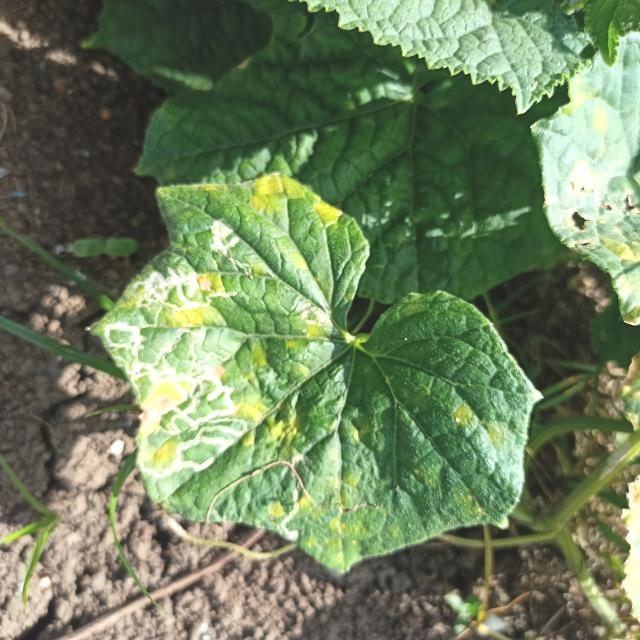disease_cucumber: (98, 274, 334, 477), (262, 422, 376, 554), (244, 170, 354, 272), (451, 398, 512, 443)
